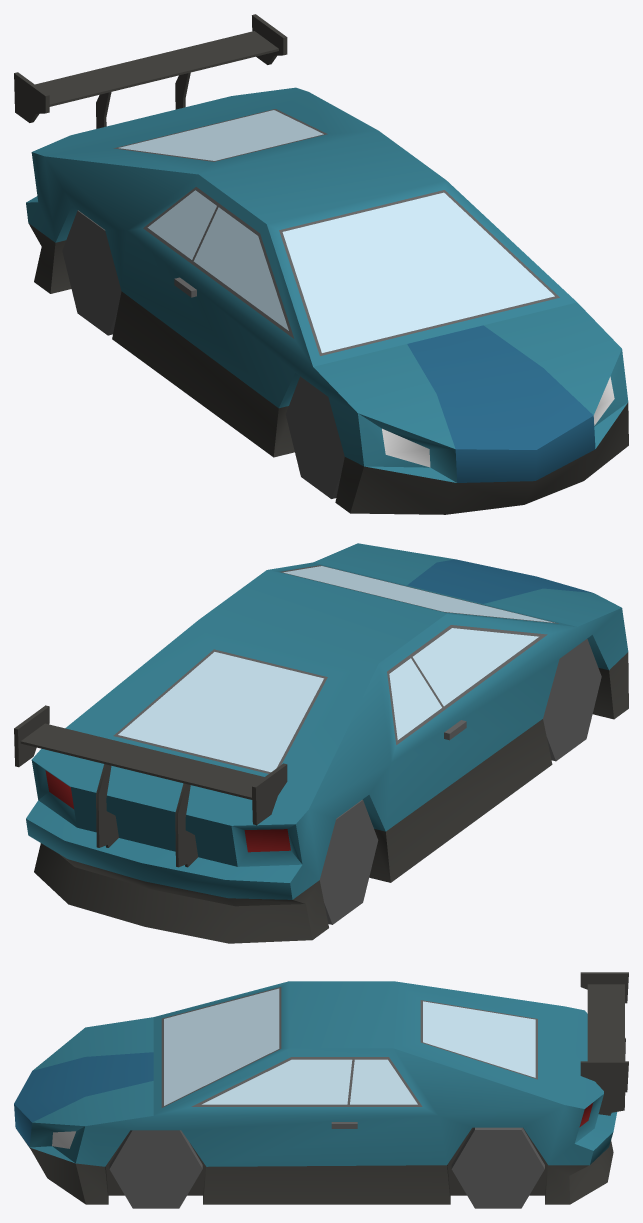
File: hard3.glb
The picture shows the model from 3 angles, top to bottom: view 1: azimuth 30°, elevation 25°; view 2: azimuth 150°, elevation 25°; view 3: azimuth 270°, elevation 25°; orthographic projection. The views are drawn at different scales.
Parts seen in each view (by area): view 1: Car_2_3; view 2: Car_2_3; view 3: Car_2_3.
Boxes of the visible parts, <box> form: Car_2_3: <box>14,14,628,514</box>; Car_2_3: <box>14,543,628,943</box>; Car_2_3: <box>14,972,628,1208</box>.
Size of the model in its own units: 2.97 by 1.94 by 7.41.
Materials: 1 (1 with a texture image).
